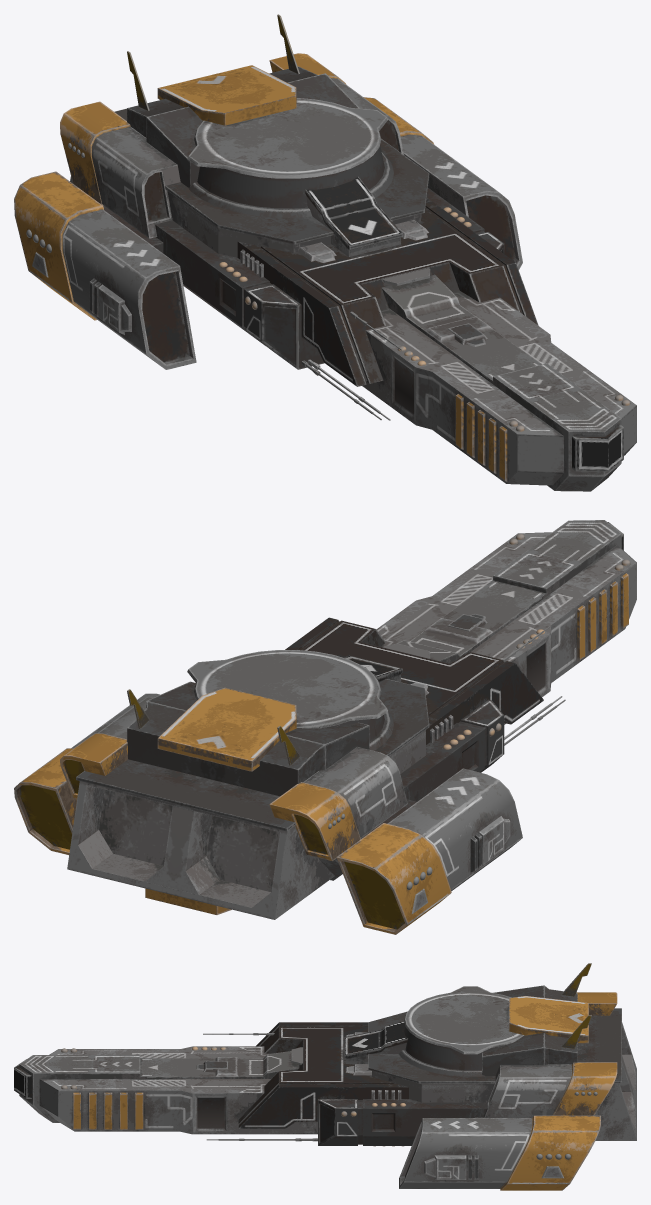
Rendered from Insurgent.glb.
3 renders of one model, top to bottom at view 1: azimuth 30°, elevation 25°; view 2: azimuth 150°, elevation 25°; view 3: azimuth 270°, elevation 25°, orthographic. The views are drawn at different scales.
Visible parts, largest first — view 1: Insurgent; view 2: Insurgent; view 3: Insurgent.
Part boxes in pixels (x1,y1,x2,y2): Insurgent: (14, 14, 636, 491); Insurgent: (14, 520, 636, 934); Insurgent: (14, 963, 636, 1190).
Size of the model in its own units: 5.57 by 2.87 by 10.95.
1 material, 1 textured.
